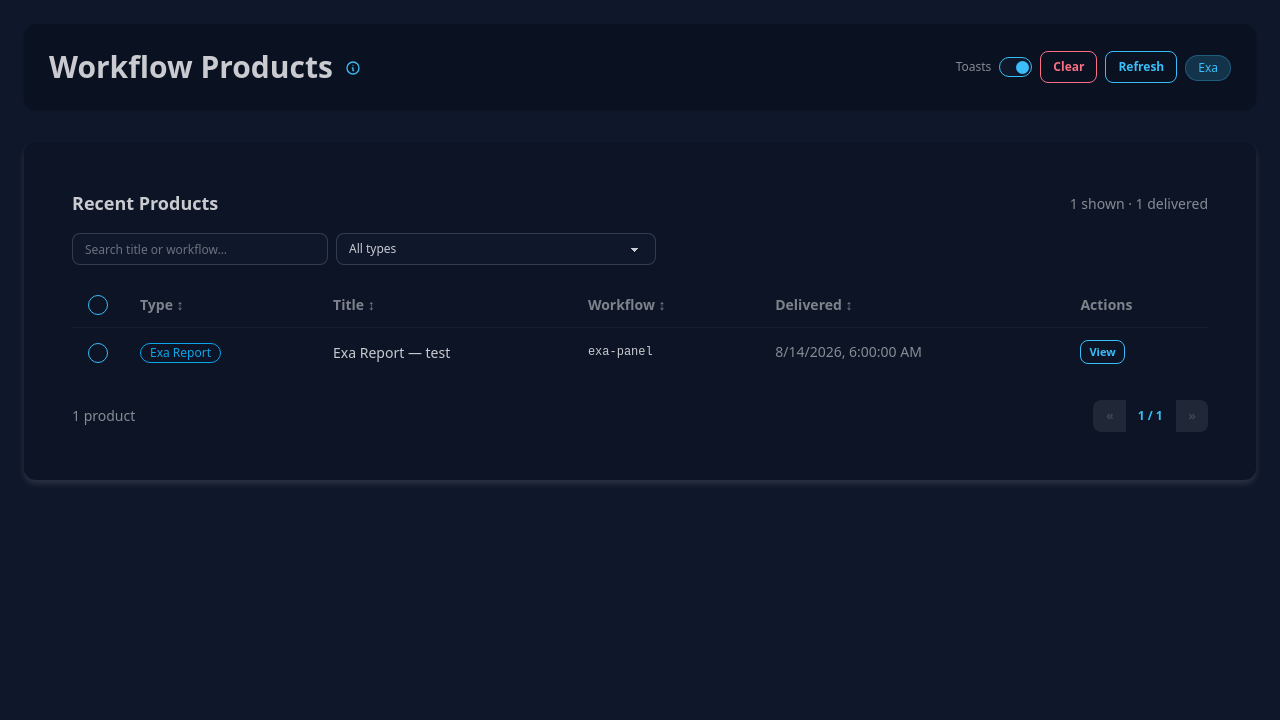
WorkflowProducts modals › renders the report viewer WITHOUT the DaisyUI modal-box trap (opacity-0 class)
This screenshot has width=1280, height=720.
Click the button "View" at (1102, 352), box [1080,340,1125,364]
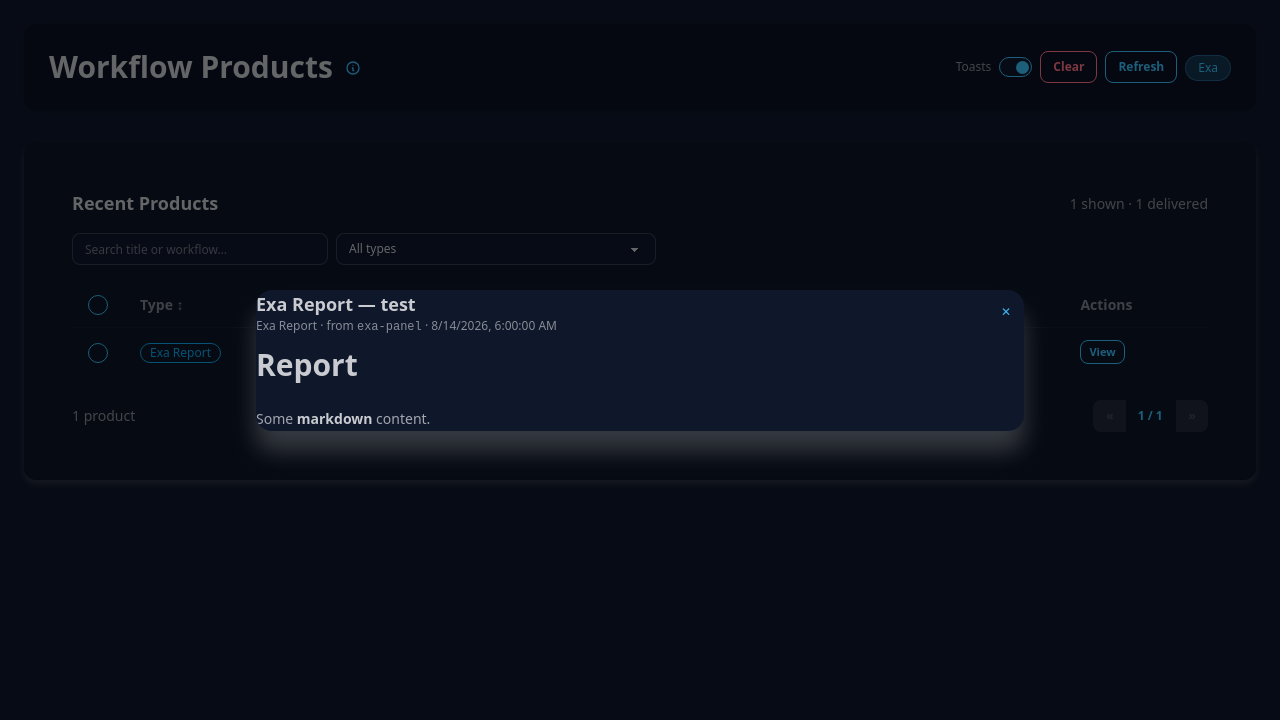
Check: the text "markdown" is shown, box [297,408,372,428]
Check: the element with class "max-w-3xl" is shown, box [256,290,1024,430]
